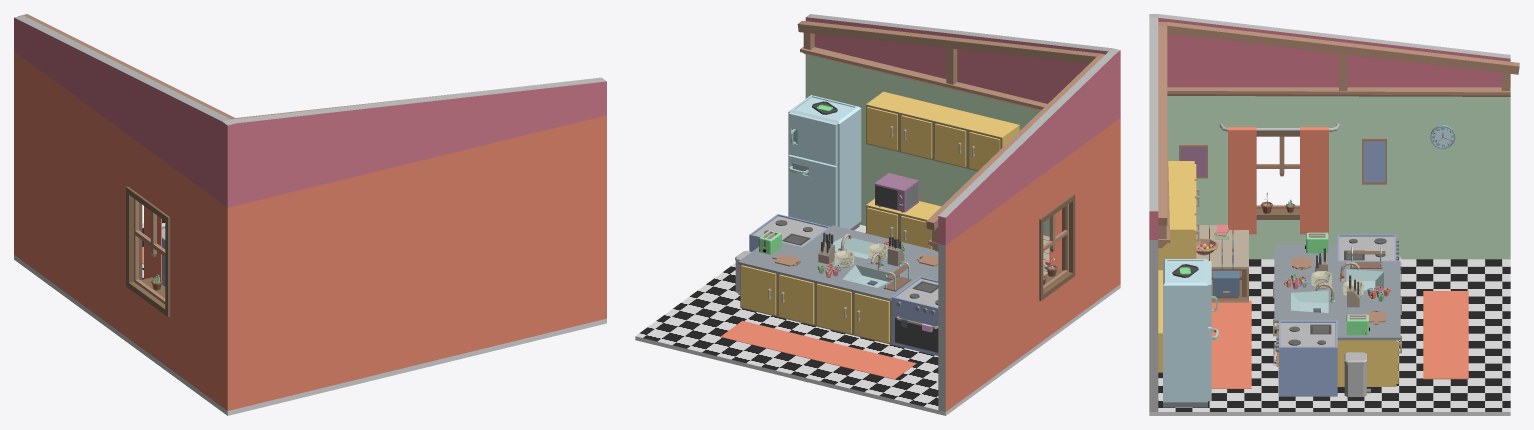
Rendered from kitchen.glb.
3 renders of one model, left to right at view 1: azimuth 30°, elevation 25°; view 2: azimuth 150°, elevation 25°; view 3: azimuth 270°, elevation 25°, orthographic. The views are drawn at different scales.
Parts seen in each view (by area): view 1: Wall, Winow, Floor; view 2: Wall, Floor, Sink, Refrigerator, Sink.001, Plane, GasRange, Winow, Sink.003, Sink.004, GasRange.001, Oven (+1 smaller); view 3: Wall, Floor, Winow, Refrigerator, Sink, GasRange.001, Plane, Sink.003, Plane.001, Table, Sink.001, Painting (+7 smaller).
Boxes of the visible parts, left/top/right/bottom form: Wall: left=14, top=14, right=606, bottom=410; Winow: left=126, top=186, right=170, bottom=316; Floor: left=14, top=219, right=606, bottom=415; Wall: left=797, top=14, right=1120, bottom=411; Floor: left=635, top=224, right=1120, bottom=415; Sink: left=738, top=243, right=919, bottom=344; Refrigerator: left=788, top=95, right=861, bottom=230; Sink.001: left=866, top=91, right=1019, bottom=171; Plane: left=720, top=321, right=916, bottom=379; GasRange: left=891, top=276, right=938, bottom=355; Winow: left=1039, top=194, right=1075, bottom=300; Sink.003: left=803, top=225, right=938, bottom=280; Sink.004: left=866, top=199, right=941, bottom=249; GasRange.001: left=749, top=214, right=830, bottom=251; Oven: left=875, top=173, right=918, bottom=212; Wall: left=1149, top=14, right=1519, bottom=411; Floor: left=1149, top=259, right=1510, bottom=415; Winow: left=1219, top=123, right=1339, bottom=234; Refrigerator: left=1163, top=259, right=1218, bottom=407; Sink: left=1337, top=261, right=1401, bottom=386; GasRange.001: left=1273, top=320, right=1337, bottom=396; Plane: left=1423, top=291, right=1468, bottom=379; Sink.003: left=1273, top=244, right=1337, bottom=366; Plane.001: left=1211, top=300, right=1251, bottom=388; Table: left=1196, top=225, right=1248, bottom=302; Sink.001: left=1168, top=161, right=1199, bottom=231; Painting: left=1179, top=138, right=1386, bottom=184.
Size of the model in its own units: 8.35 by 6 by 8.2.
2 materials, 2 textured.
